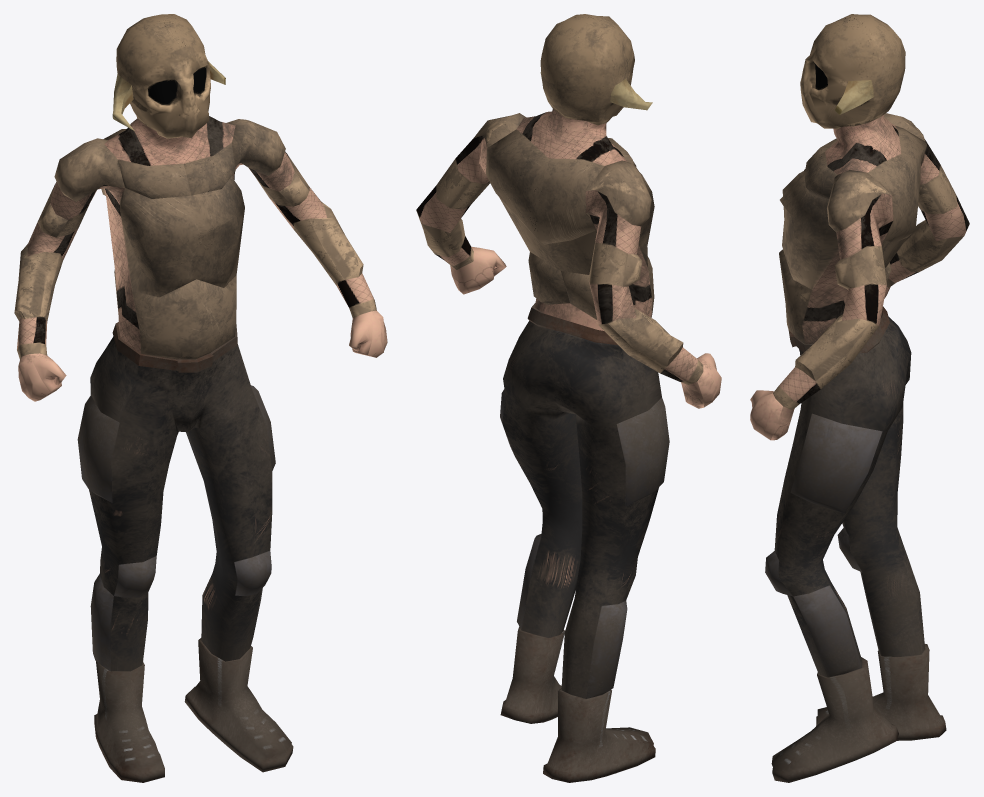
File: Anim_ataque_d1_npc1.0031.obj
The picture shows the model from 3 angles, left to right: view 1: azimuth 30°, elevation 25°; view 2: azimuth 150°, elevation 25°; view 3: azimuth 270°, elevation 25°; orthographic projection.
Visible parts, largest first — view 1: NPC2; view 2: NPC2; view 3: NPC2.
Part boxes in pixels (bbox=[...]): NPC2: bbox=[14, 14, 387, 782]; NPC2: bbox=[416, 14, 721, 782]; NPC2: bbox=[750, 14, 969, 782].
Bounding box in the file's own units: 4.28 × 9.64 × 2.64.
